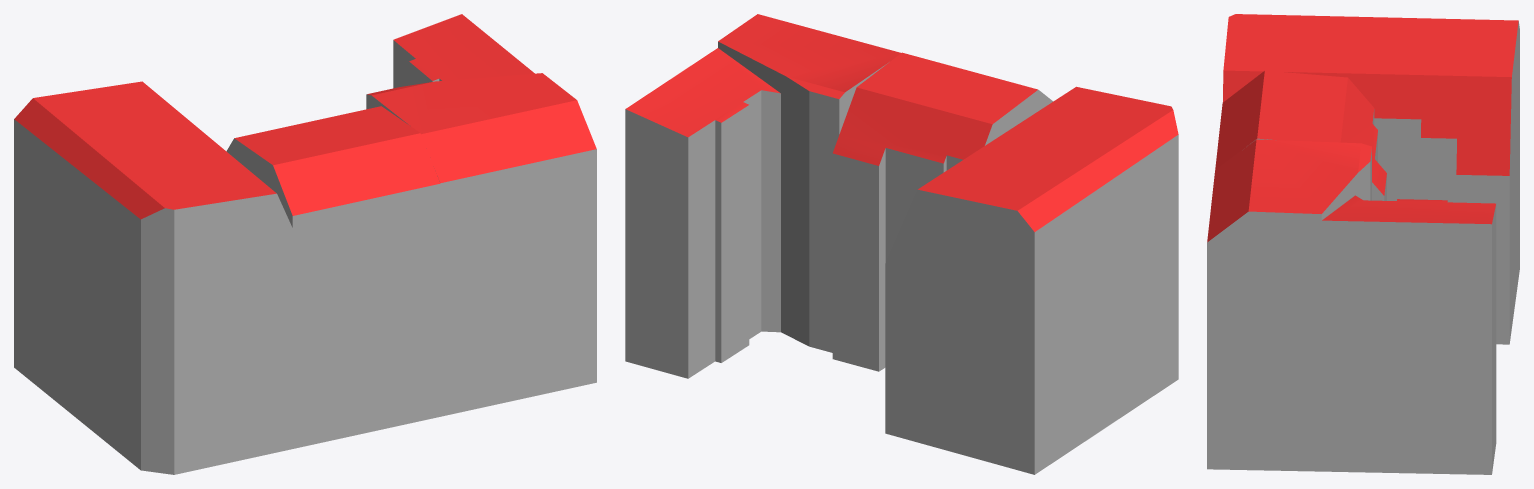
File: DEBE3D04YY50000Pa5.dae
3 views of the same model, side by side, from view 1: azimuth 30°, elevation 25°; view 2: azimuth 150°, elevation 25°; view 3: azimuth 270°, elevation 25° (orthographic). The views are drawn at different scales.
Size of the model in its own units: 39.79 by 25.02 by 22.91.
